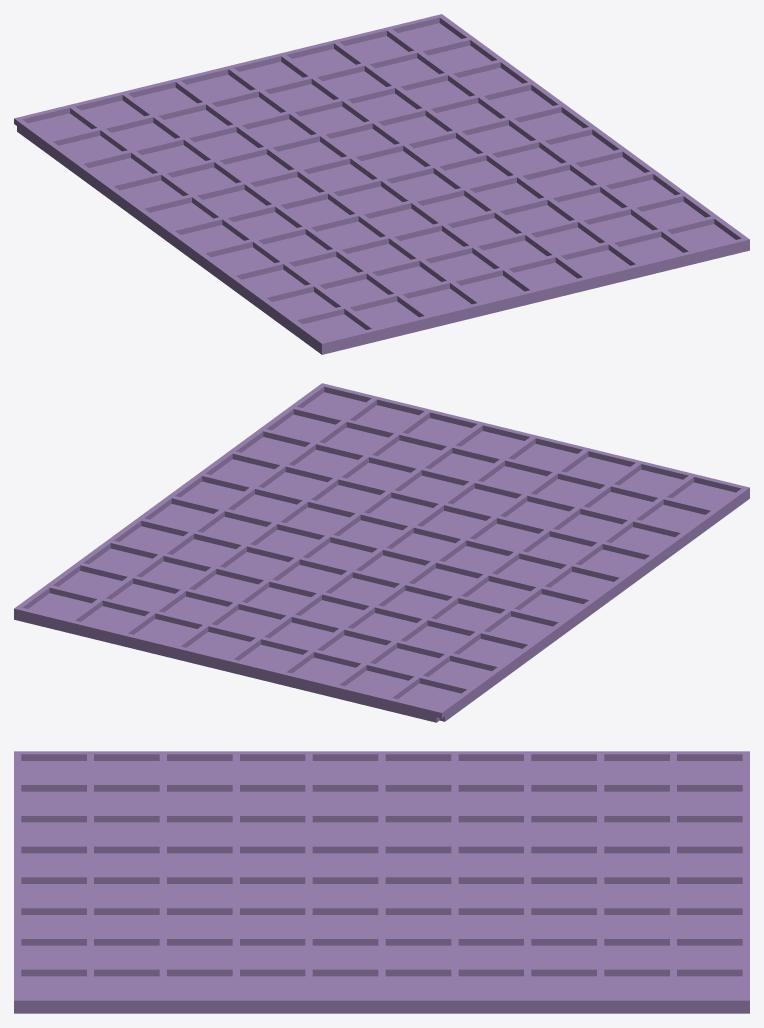
The model's file is BoardModel.obj.
3 views of the same model, one above another, from view 1: azimuth 30°, elevation 25°; view 2: azimuth 150°, elevation 25°; view 3: azimuth 270°, elevation 25° (orthographic). The views are drawn at different scales.
Parts seen in each view (by area): view 1: Model; view 2: Model; view 3: Model.
Part boxes in pixels (<box>): Model: <box>14,14,749,354</box>; Model: <box>14,383,749,722</box>; Model: <box>14,751,749,1013</box>.
Bounding box in the file's own units: 25.66 × 0.6337 × 32.
Materials: 1 (1 with a texture image).
